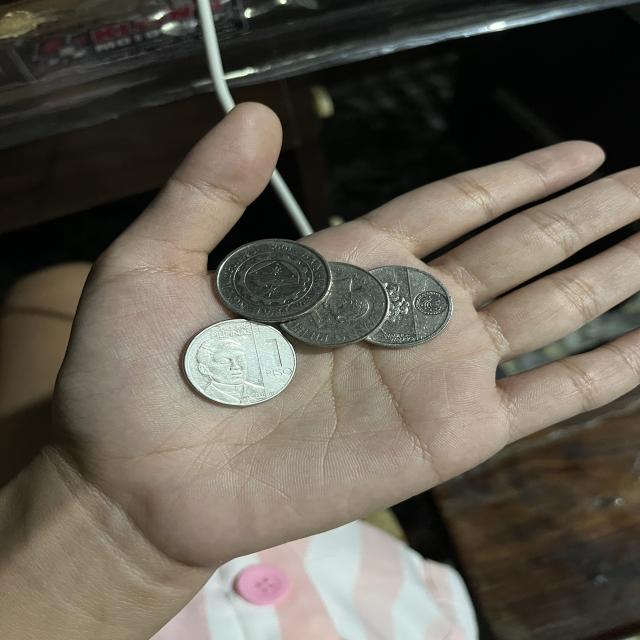1_New_Back: (376, 276, 413, 333)
1_New_Front: (258, 328, 296, 383)
1_Old_Back: (210, 236, 330, 320)
1_Old_Front: (307, 294, 334, 334)
